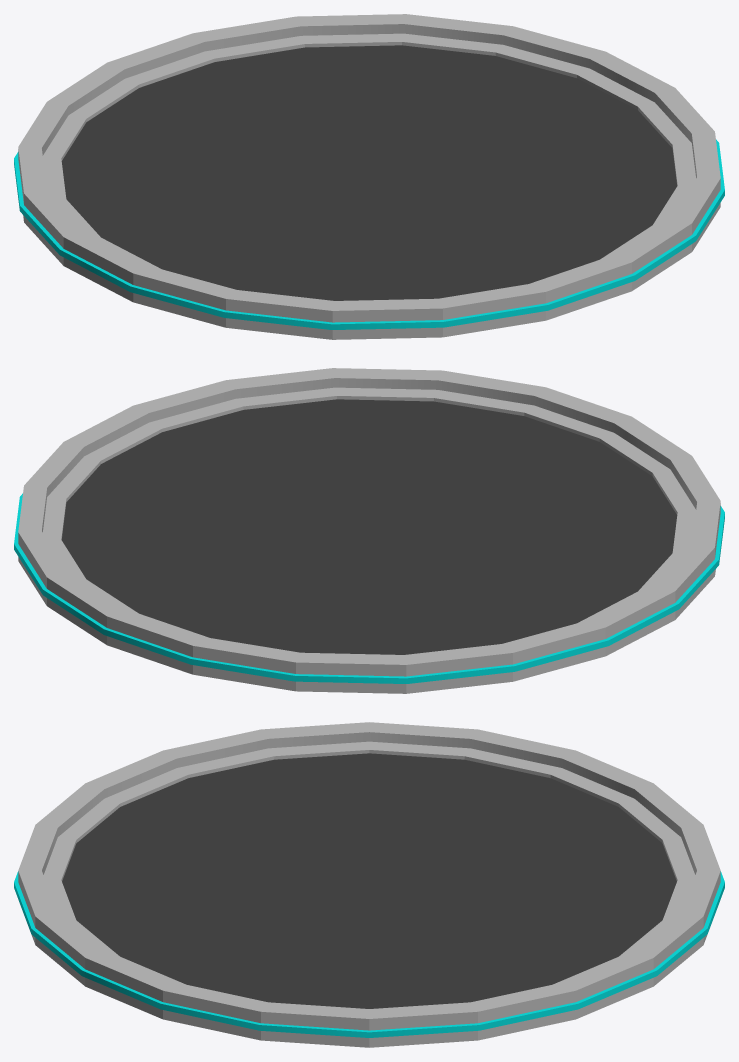
File: MSH_CircularNeon.fbx
The picture shows the model from 3 angles, top to bottom: view 1: azimuth 30°, elevation 25°; view 2: azimuth 150°, elevation 25°; view 3: azimuth 270°, elevation 25°; orthographic projection.
Parts seen in each view (by area): view 1: polySurface7; view 2: polySurface7; view 3: polySurface7.
Boxes of the visible parts, left/top/right/bottom form: polySurface7: left=14, top=14, right=724, bottom=339; polySurface7: left=14, top=368, right=724, bottom=693; polySurface7: left=14, top=722, right=724, bottom=1047.
Size of the model in its own units: 11.39 by 0.5087 by 11.39.
